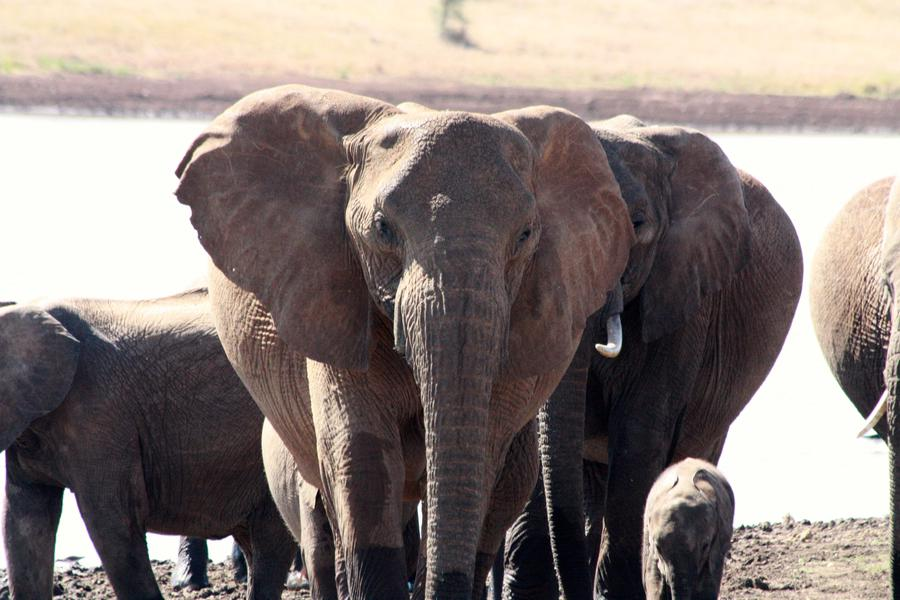elephant: (191, 74, 609, 418)
